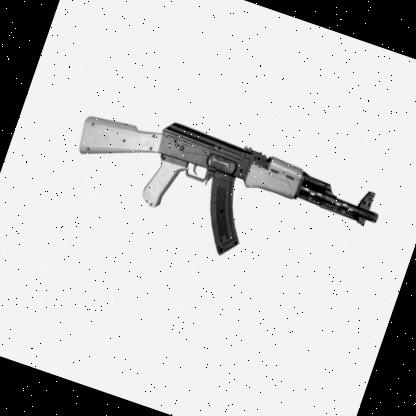rifle: (51, 72, 400, 310)
